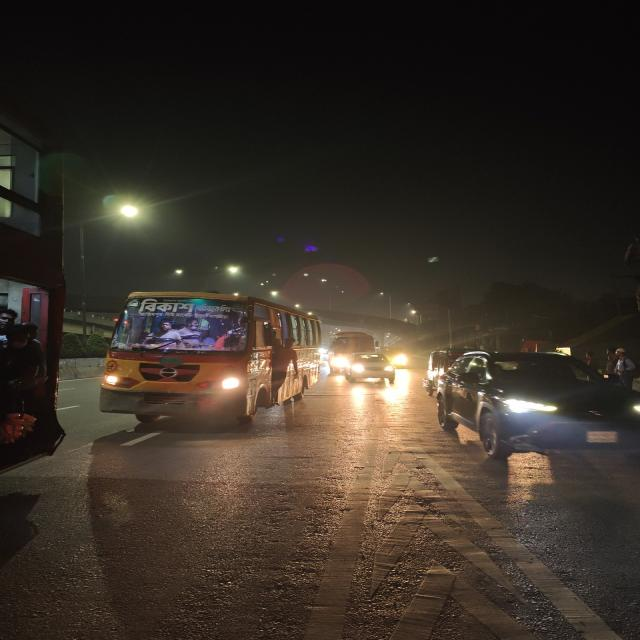bus: (99, 286, 323, 421)
car: (432, 346, 640, 464), (346, 351, 398, 384)
